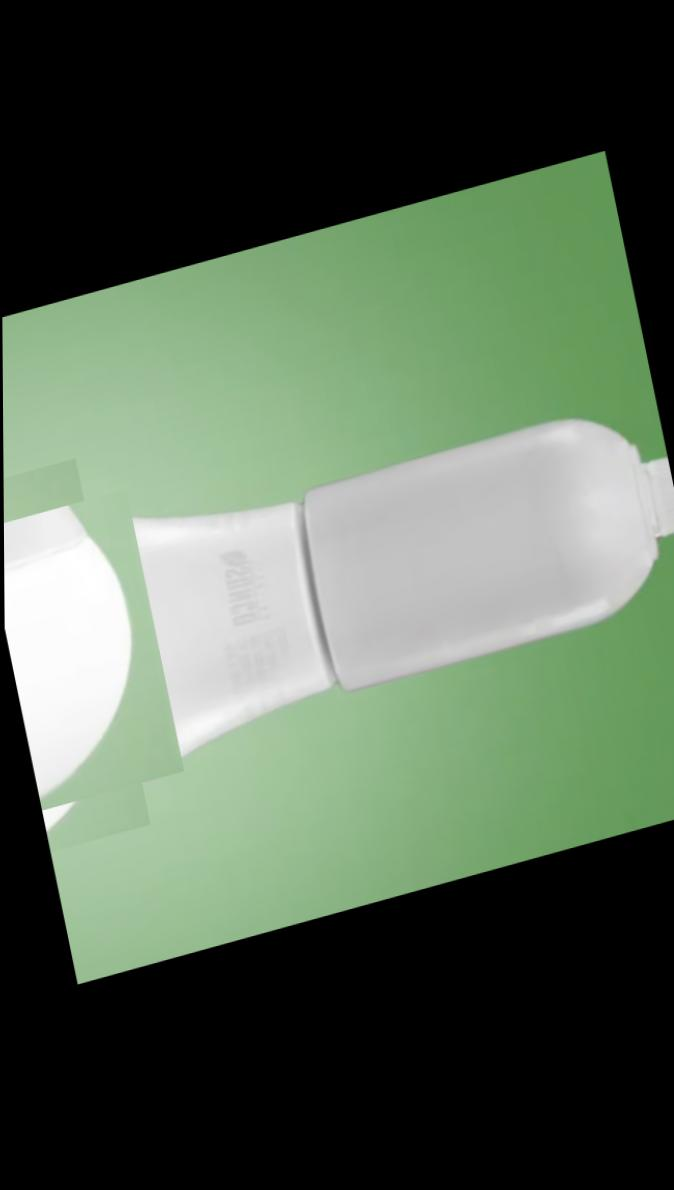Fan: (3, 472, 166, 834)
